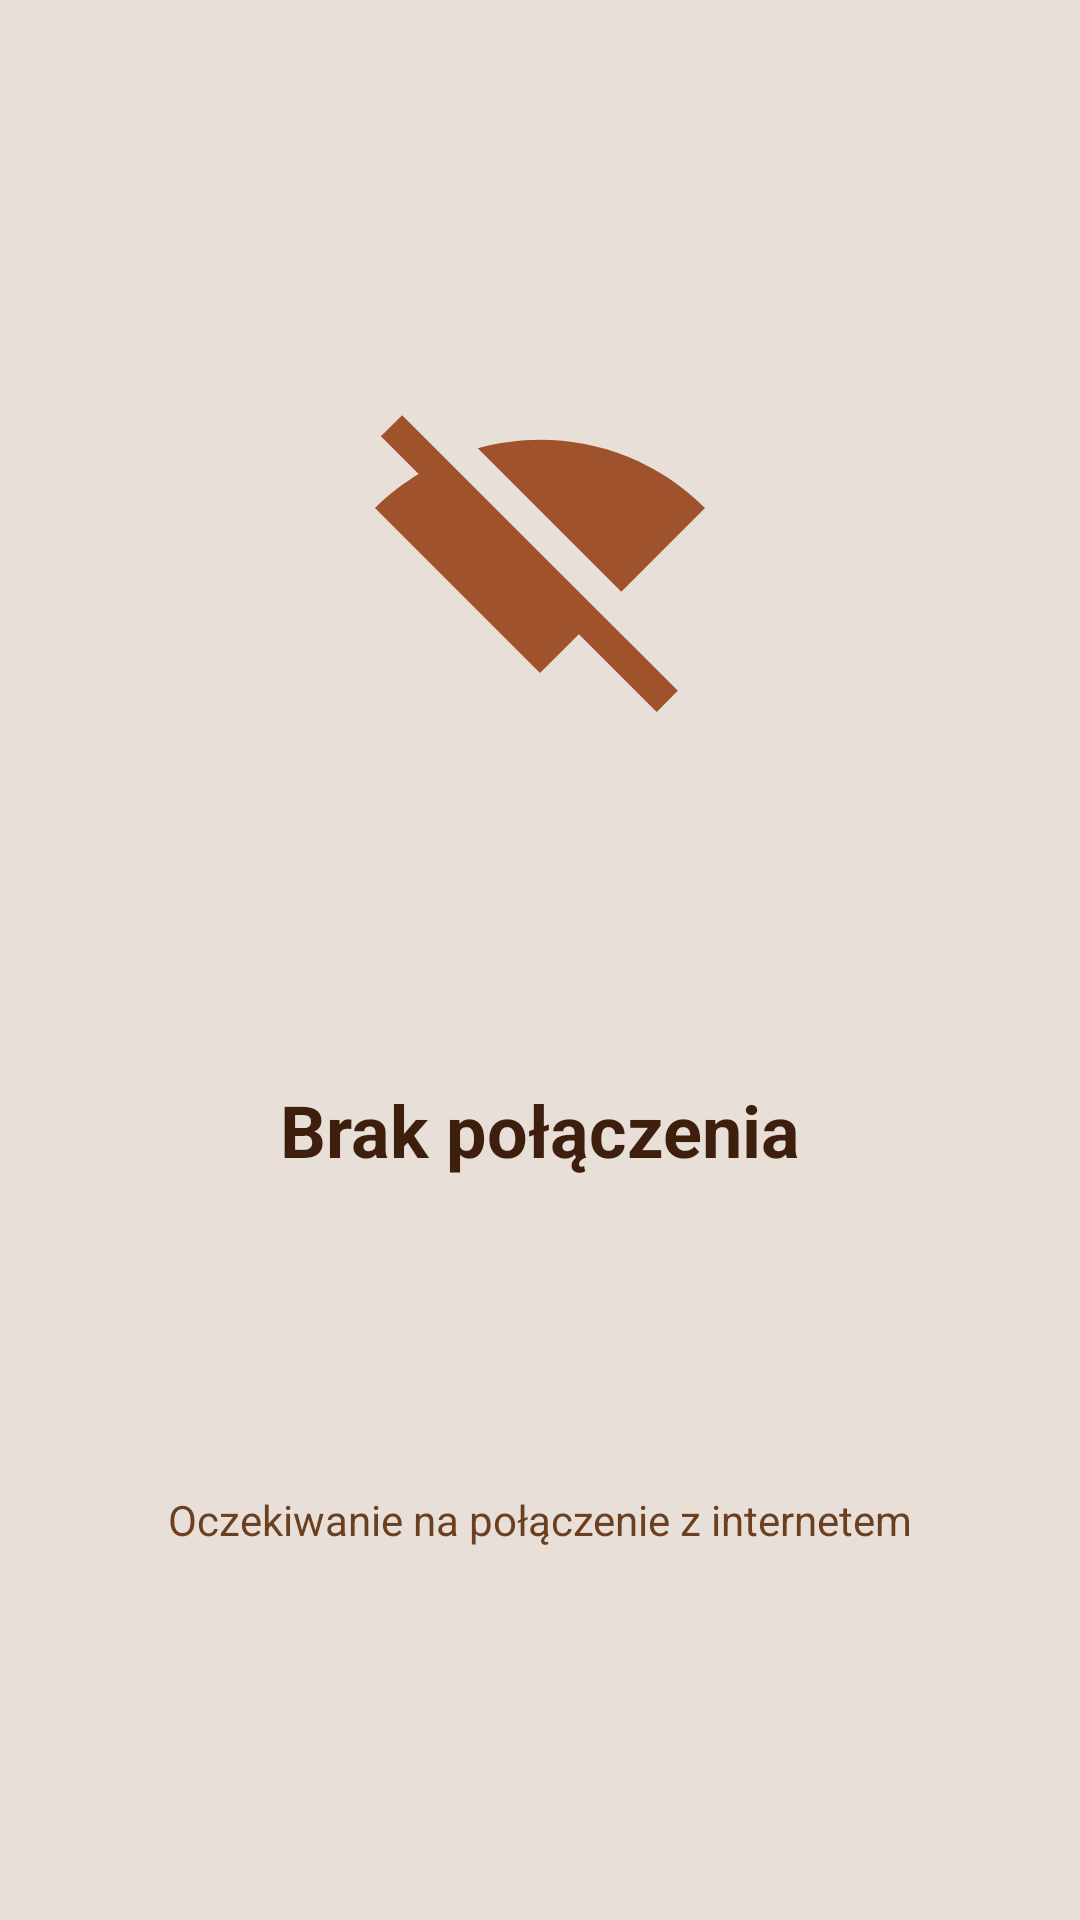

Locate icon controls on the screen. Image size 1080 × 1920, boxes as (left=x1, top=y1, right=x2, bottom=y2).
Brak połączenia: (left=375, top=415, right=705, bottom=712)
